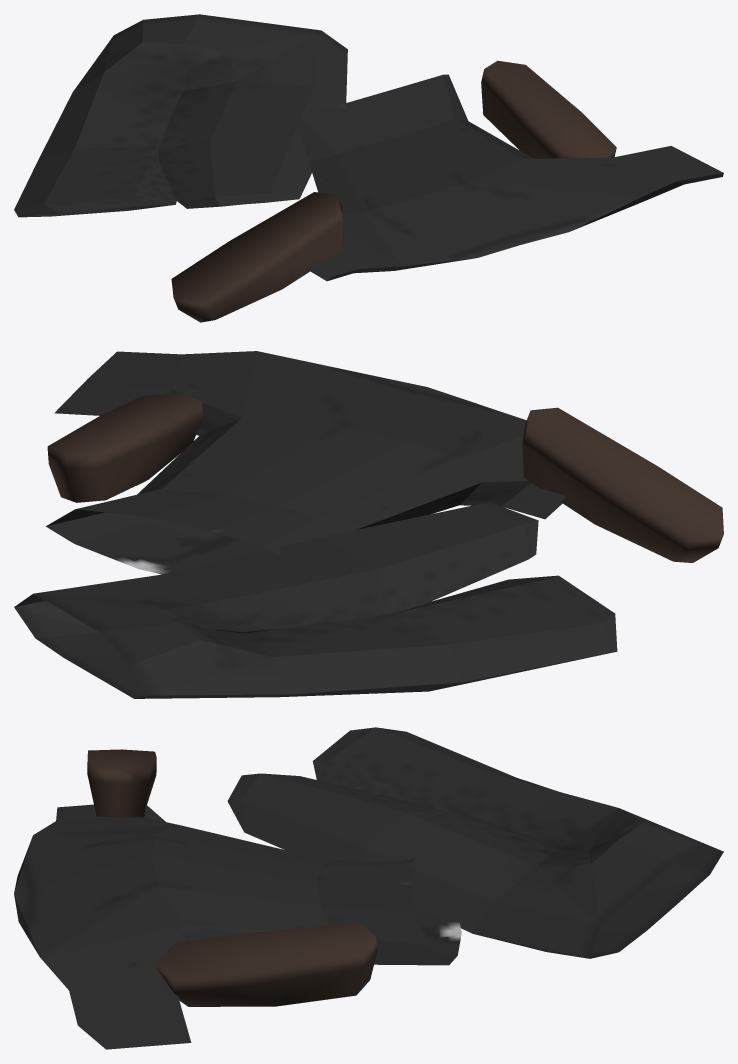
Rendered from SM_Casual.fbx.
3 views of the same model, one above another, from view 1: azimuth 30°, elevation 25°; view 2: azimuth 150°, elevation 25°; view 3: azimuth 270°, elevation 25° (orthographic). The views are drawn at different scales.
Visible parts, largest first — view 1: Casual; view 2: Casual; view 3: Casual.
Part boxes in pixels (x1,y1,x2,y2): Casual: [14, 14, 723, 322]; Casual: [14, 351, 723, 698]; Casual: [14, 727, 723, 1049].
Size of the model in its own units: 0.7395 by 0.117 by 0.7146.
